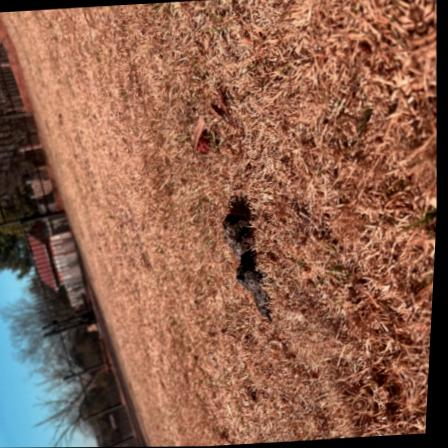dog-poop: (213, 197, 283, 321)
